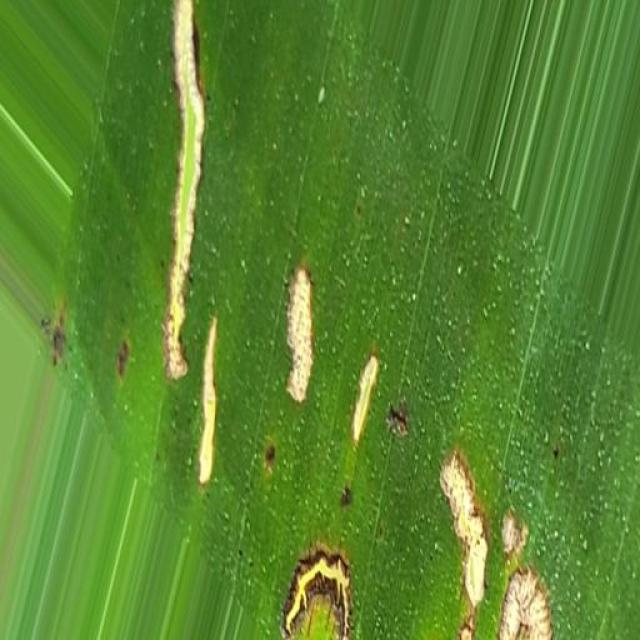Black_rot: (140, 4, 621, 640)
